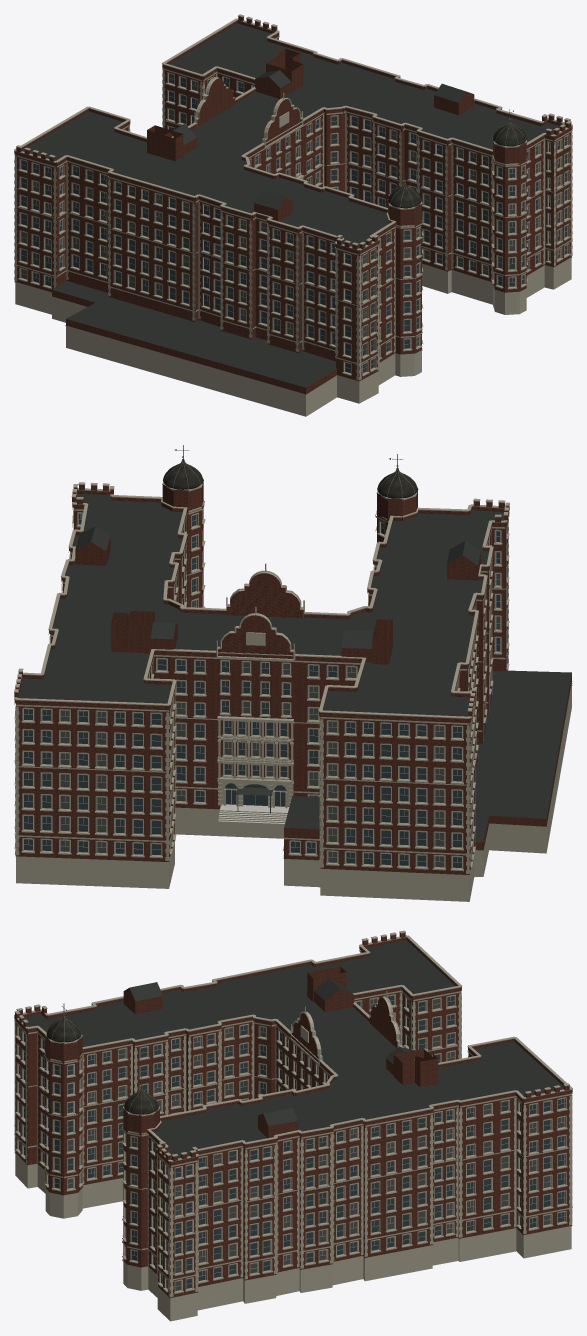
File: maseeh-mobile.glb
3 renders of one model, top to bottom at view 1: azimuth 30°, elevation 25°; view 2: azimuth 150°, elevation 25°; view 3: azimuth 270°, elevation 25°, orthographic. The views are drawn at different scales.
Visible parts, largest first — view 1: Maseeh exterior brick, Maseeh exterior stone, Maseeh exterior roof, Maseeh exterior glass, Maseeh exterior frame, Maseeh exterior glassShade, Maseeh exterior copper; view 2: Maseeh exterior brick, Maseeh exterior roof, Maseeh exterior stone, Maseeh exterior glass, Maseeh exterior frame, Maseeh exterior glassShade, Maseeh exterior copper, Maseeh entry ground paving; view 3: Maseeh exterior brick, Maseeh exterior stone, Maseeh exterior roof, Maseeh exterior glass, Maseeh exterior frame, Maseeh exterior glassShade, Maseeh exterior copper.
Boxes of the visible parts, bbox=[...] form: Maseeh exterior brick: bbox=[14, 16, 572, 394]; Maseeh exterior stone: bbox=[14, 14, 572, 416]; Maseeh exterior roof: bbox=[22, 23, 559, 387]; Maseeh exterior glass: bbox=[21, 77, 567, 372]; Maseeh exterior frame: bbox=[21, 74, 567, 373]; Maseeh exterior glassShade: bbox=[21, 73, 559, 346]; Maseeh exterior copper: bbox=[388, 120, 526, 208]; Maseeh exterior brick: bbox=[14, 482, 571, 874]; Maseeh exterior roof: bbox=[18, 493, 571, 842]; Maseeh exterior stone: bbox=[14, 479, 572, 901]; Maseeh exterior glass: bbox=[24, 513, 500, 867]; Maseeh exterior frame: bbox=[23, 513, 500, 868]; Maseeh exterior glassShade: bbox=[60, 574, 500, 867]; Maseeh exterior copper: bbox=[163, 459, 417, 498]; Maseeh entry ground paving: bbox=[218, 804, 289, 823]; Maseeh exterior brick: bbox=[14, 932, 572, 1298]; Maseeh exterior stone: bbox=[14, 930, 572, 1321]; Maseeh exterior roof: bbox=[24, 940, 563, 1159]; Maseeh exterior glass: bbox=[19, 995, 564, 1288]; Maseeh exterior frame: bbox=[18, 995, 564, 1291]; Maseeh exterior glassShade: bbox=[19, 998, 564, 1290]; Maseeh exterior copper: bbox=[46, 1016, 158, 1114].
Size of what is drawn, in the model's own units: 82.14 by 34.59 by 84.55.
Materials: 10 (4 with a texture image).
